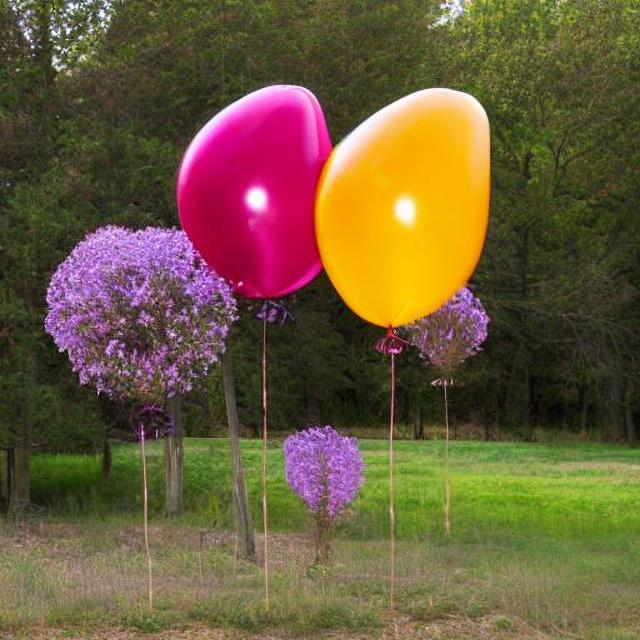balloon: (167, 85, 498, 341)
